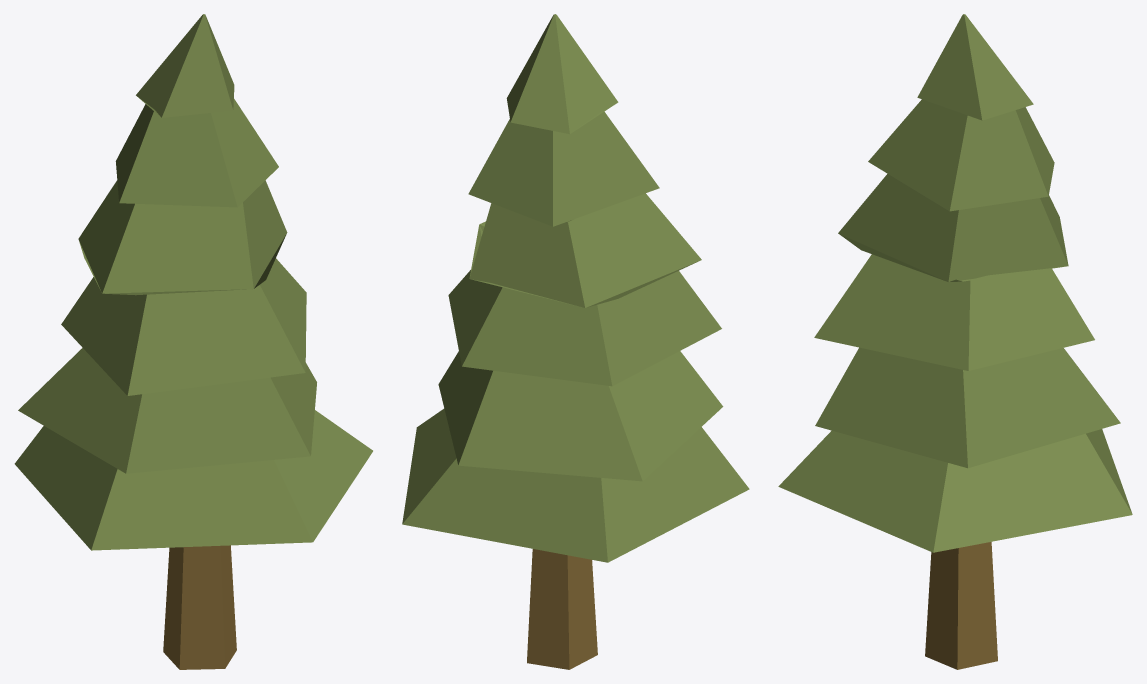
The model's file is pine_2.fbx.
3 renders of one model, left to right at view 1: azimuth 30°, elevation 25°; view 2: azimuth 150°, elevation 25°; view 3: azimuth 270°, elevation 25°, orthographic.
Visible parts, largest first — view 1: Cylinder.002; view 2: Cylinder.002; view 3: Cylinder.002.
Boxes of the visible parts, x1,y1,x2,y2 form: Cylinder.002: (14,14,372,669); Cylinder.002: (402,14,749,669); Cylinder.002: (778,14,1132,669).
Bounding box in the file's own units: 159 × 315 × 158.
